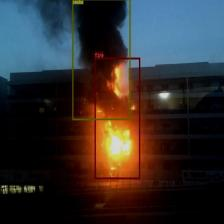fire: (94, 57, 140, 179)
smoke: (72, 0, 130, 120)
